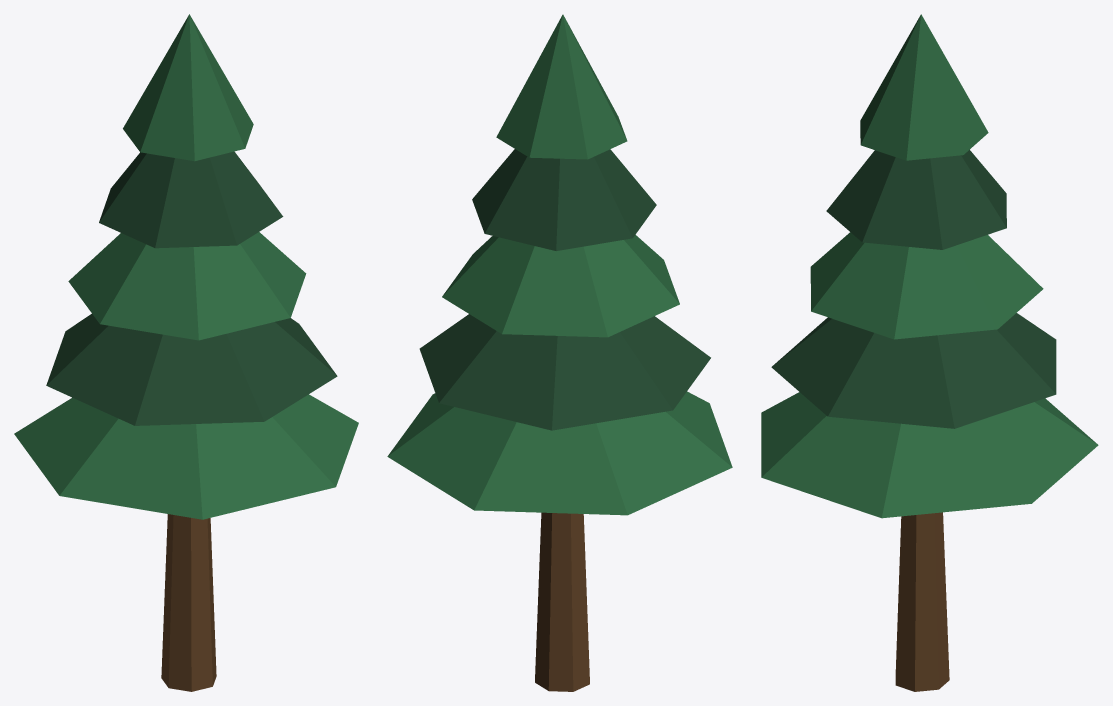
The model's file is arbre_foret_1.glb.
3 views of the same model, side by side, from view 1: azimuth 30°, elevation 25°; view 2: azimuth 150°, elevation 25°; view 3: azimuth 270°, elevation 25° (orthographic).
Visible parts, largest first — view 1: pin_etage_0.002, pin_etage_1.002, pin_etage_2.002, pin_etage_3.002, pin_etage_4.002, pin_tronc.002; view 2: pin_etage_0.002, pin_etage_1.002, pin_etage_2.002, pin_etage_3.002, pin_etage_4.002, pin_tronc.002; view 3: pin_etage_0.002, pin_etage_1.002, pin_etage_2.002, pin_etage_3.002, pin_etage_4.002, pin_tronc.002.
Boxes of the visible parts, x1=… form: pin_etage_0.002: x1=14, y1=394, x2=358, y2=519; pin_etage_1.002: x1=46, y1=314, x2=337, y2=425; pin_etage_2.002: x1=68, y1=232, x2=306, y2=340; pin_etage_3.002: x1=99, y1=151, x2=283, y2=248; pin_etage_4.002: x1=123, y1=14, x2=253, y2=161; pin_tronc.002: x1=161, y1=514, x2=216, y2=691; pin_etage_0.002: x1=387, y1=391, x2=732, y2=515; pin_etage_1.002: x1=419, y1=314, x2=710, y2=430; pin_etage_2.002: x1=442, y1=235, x2=679, y2=337; pin_etage_3.002: x1=472, y1=149, x2=656, y2=250; pin_etage_4.002: x1=496, y1=14, x2=627, y2=159; pin_tronc.002: x1=535, y1=512, x2=589, y2=691; pin_etage_0.002: x1=761, y1=392, x2=1098, y2=518; pin_etage_1.002: x1=771, y1=313, x2=1056, y2=428; pin_etage_2.002: x1=810, y1=232, x2=1043, y2=339; pin_etage_3.002: x1=826, y1=149, x2=1006, y2=249; pin_etage_4.002: x1=860, y1=14, x2=988, y2=160; pin_tronc.002: x1=895, y1=512, x2=949, y2=691.
Size of the model in its own units: 2.53 by 5.38 by 2.47.
